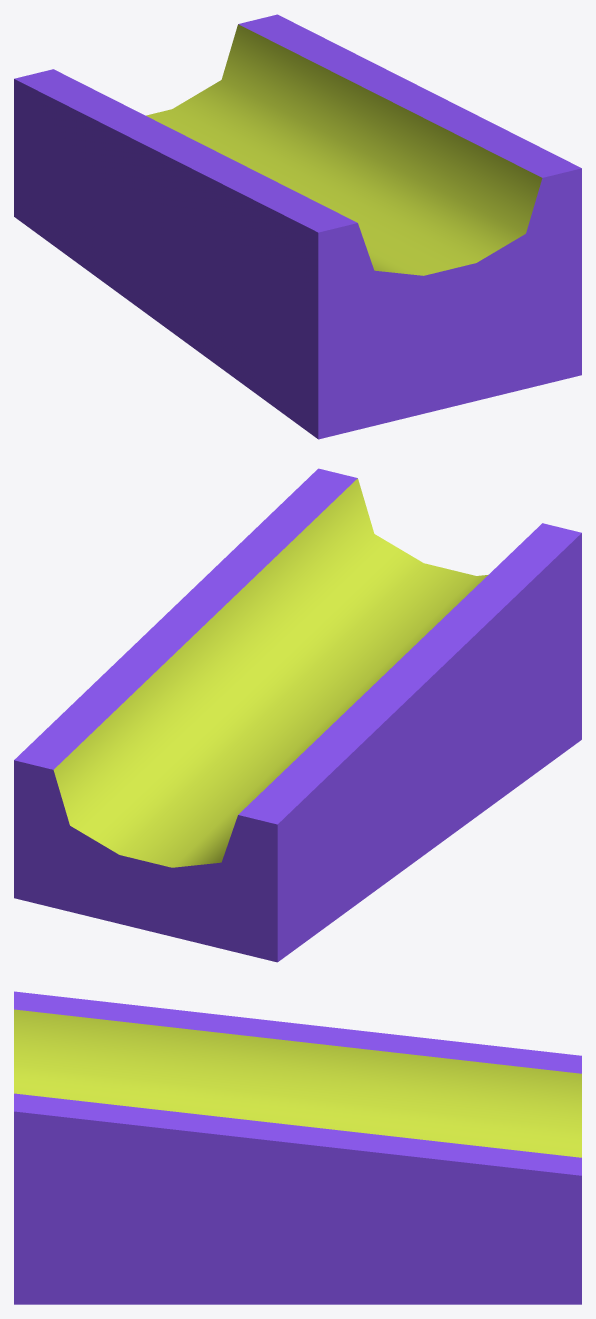
The model's file is slant_solid_long_A.fbx.
3 renders of one model, top to bottom at view 1: azimuth 30°, elevation 25°; view 2: azimuth 150°, elevation 25°; view 3: azimuth 270°, elevation 25°, orthographic. The views are drawn at different scales.
Parts seen in each view (by area): view 1: slant_solid_long_A; view 2: slant_solid_long_A; view 3: slant_solid_long_A.
Part boxes in pixels (left/top/right/bottom): slant_solid_long_A: left=14, top=14, right=581, bottom=439; slant_solid_long_A: left=14, top=468, right=581, bottom=962; slant_solid_long_A: left=14, top=991, right=581, bottom=1304.
Bounding box in the file's own units: 10 × 7.5 × 20.
